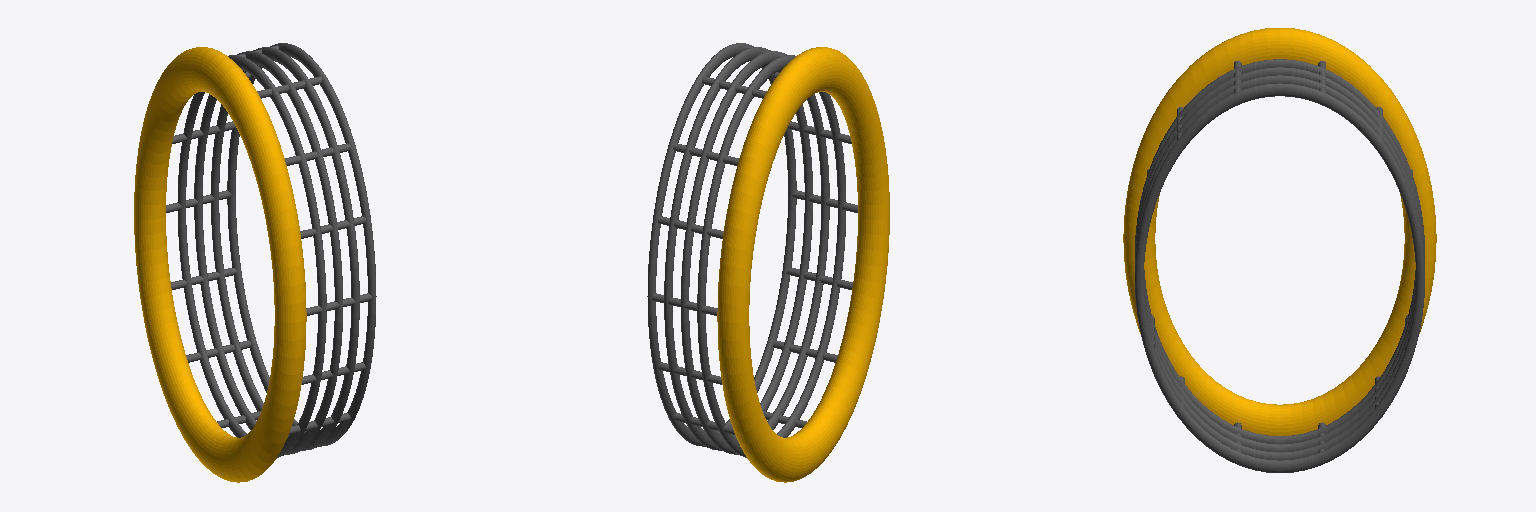
3 renders of one model, left to right at view 1: azimuth 30°, elevation 25°; view 2: azimuth 150°, elevation 25°; view 3: azimuth 270°, elevation 25°, orthographic.
Visible parts, largest first — view 1: black, main; view 2: black, main; view 3: black, main.
Part boxes in pixels (x1,y1,x2,y2): black: (166, 43, 376, 457); main: (134, 47, 306, 482); black: (647, 43, 857, 457); main: (717, 47, 889, 482); black: (1135, 59, 1424, 472); main: (1123, 28, 1436, 435).
Size of the model in its own units: 1.73 by 7.02 by 4.74.